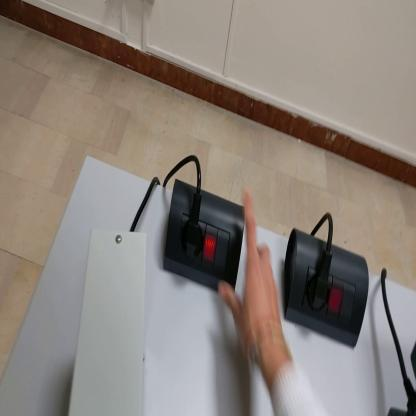hand: (220, 188, 285, 373)
oscilloscope: (389, 401, 416, 416)
power supply: (68, 228, 147, 414)
socket: (160, 175, 249, 300), (285, 227, 371, 349)
